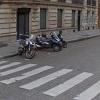Crosswalk: (5, 53, 100, 97)
